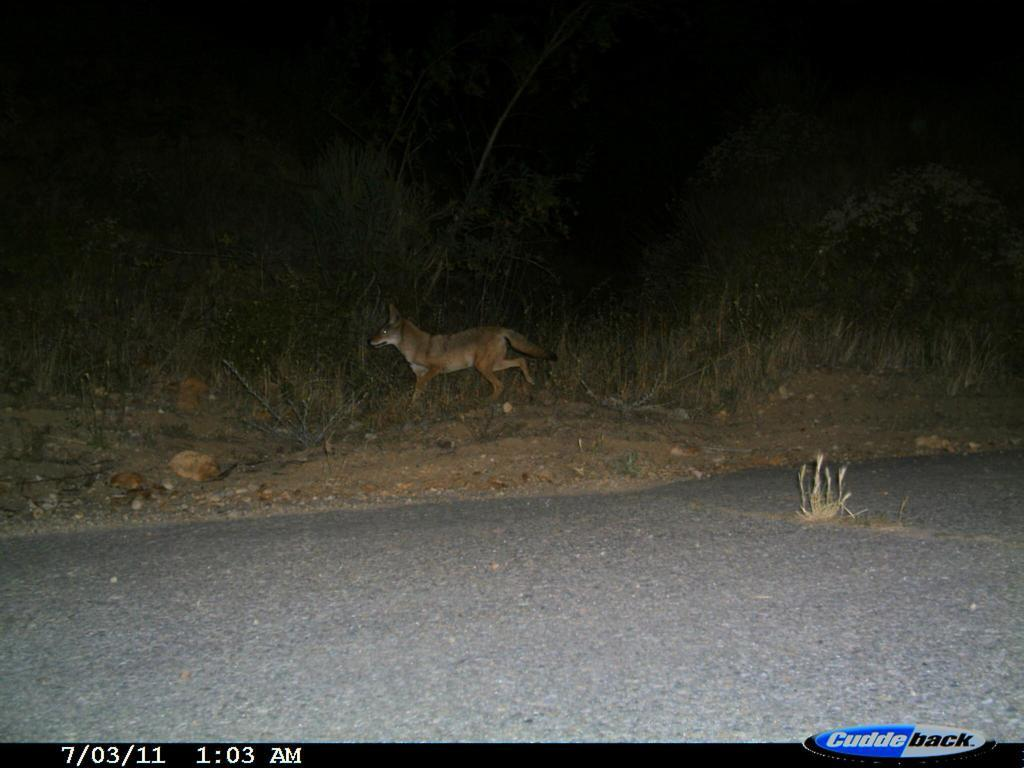coyote: (359, 301, 560, 419)
